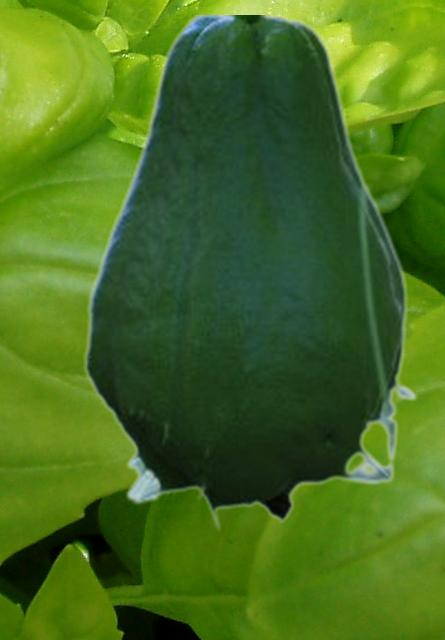sayote: (83, 15, 417, 531)
